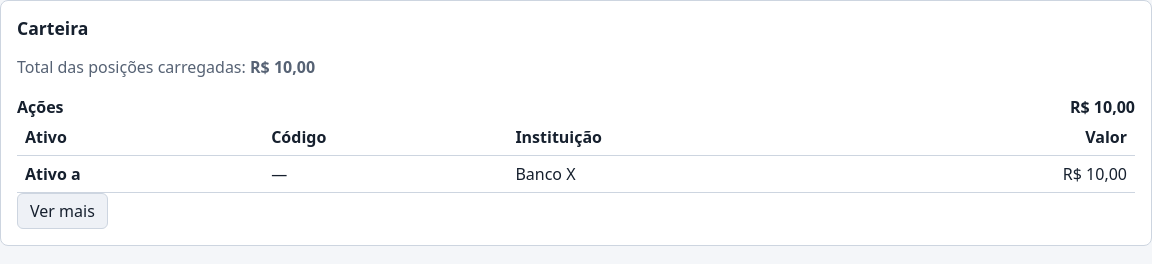
Test: PortfolioPanel › pagina por cursor: 'Ver mais' pede ?after= e junta sem duplicar
Expected: the column heading "Ativo a" is shown, [17,156,263,192]
Expected: the text "Total das posições carregadas: R$ 10,00" is shown, [17,56,315,78]
Click the button "Ver mais" at {"x": 62, "y": 211}, box [17,193,108,229]
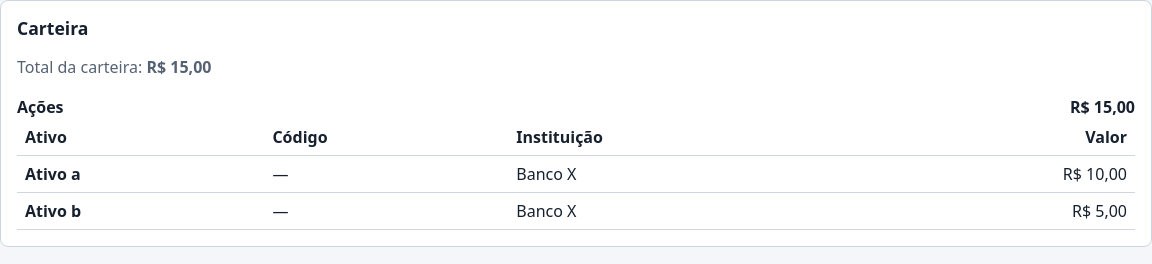
Expected: the column heading "Ativo b" is shown, [17,192,264,230]
Expected: the number of column headings "Ativo a" is 1, [17,156,264,192]
Expected: the button "Ver mais" is gone
